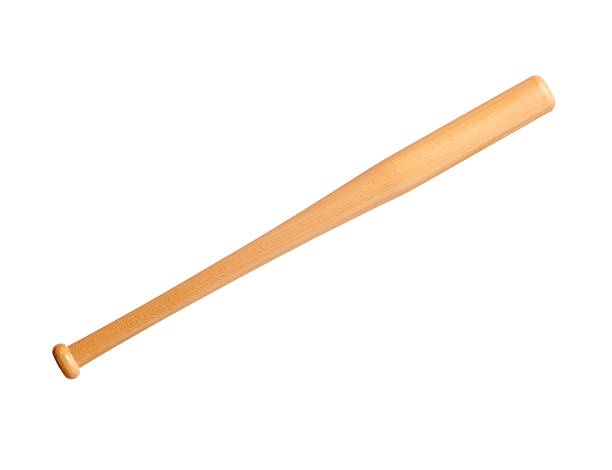bita: (49, 82, 550, 379)
